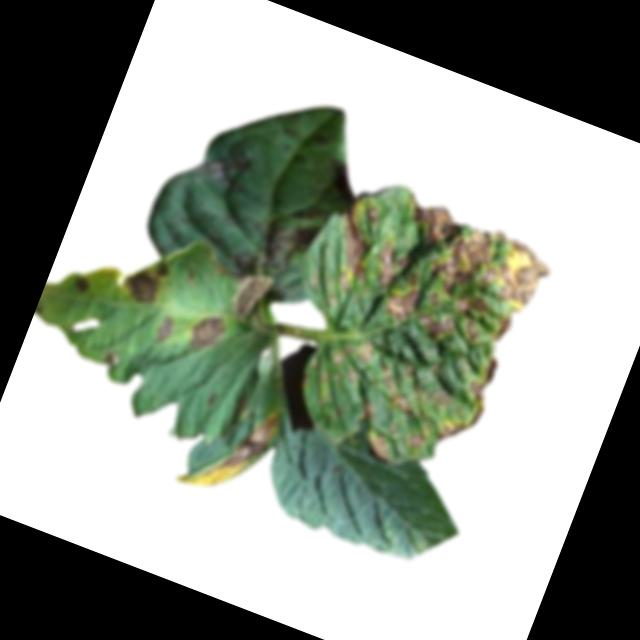Early_blight: (256, 164, 562, 493), (172, 391, 282, 510), (242, 205, 321, 282), (182, 138, 254, 196), (117, 252, 174, 312), (224, 263, 276, 327), (181, 306, 228, 356), (323, 163, 362, 208), (150, 313, 179, 349), (66, 270, 94, 299), (99, 347, 124, 373)
